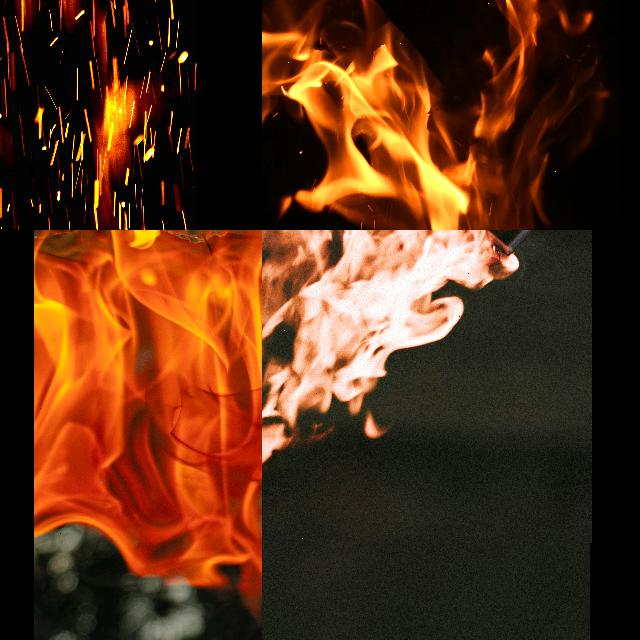fire: (33, 230, 262, 604), (262, 0, 591, 230), (262, 230, 513, 462)
